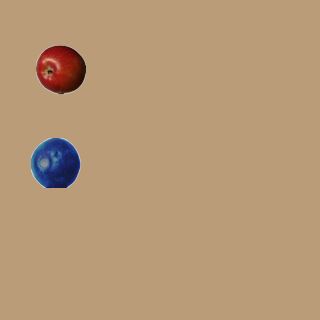Apple Braeburn: (35, 44, 85, 94)
Huckleberry: (30, 137, 80, 187)
